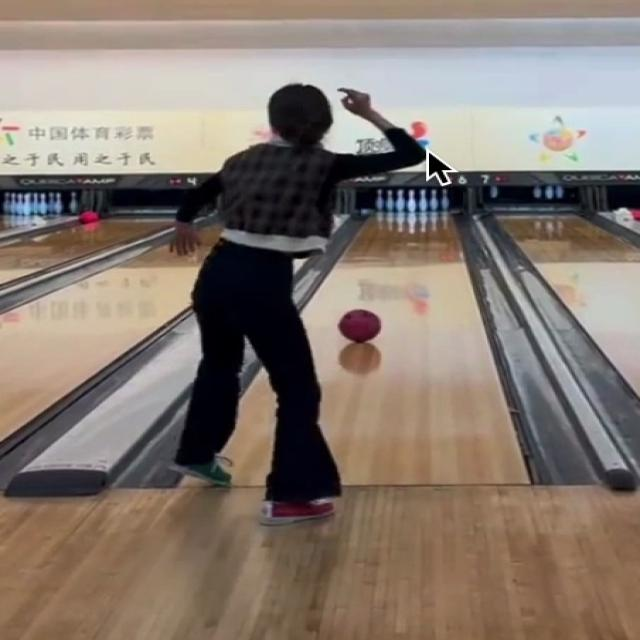alley: (303, 215, 525, 483), (225, 372, 272, 485)
balls: (338, 309, 381, 342)
bottle: (378, 189, 452, 214)
